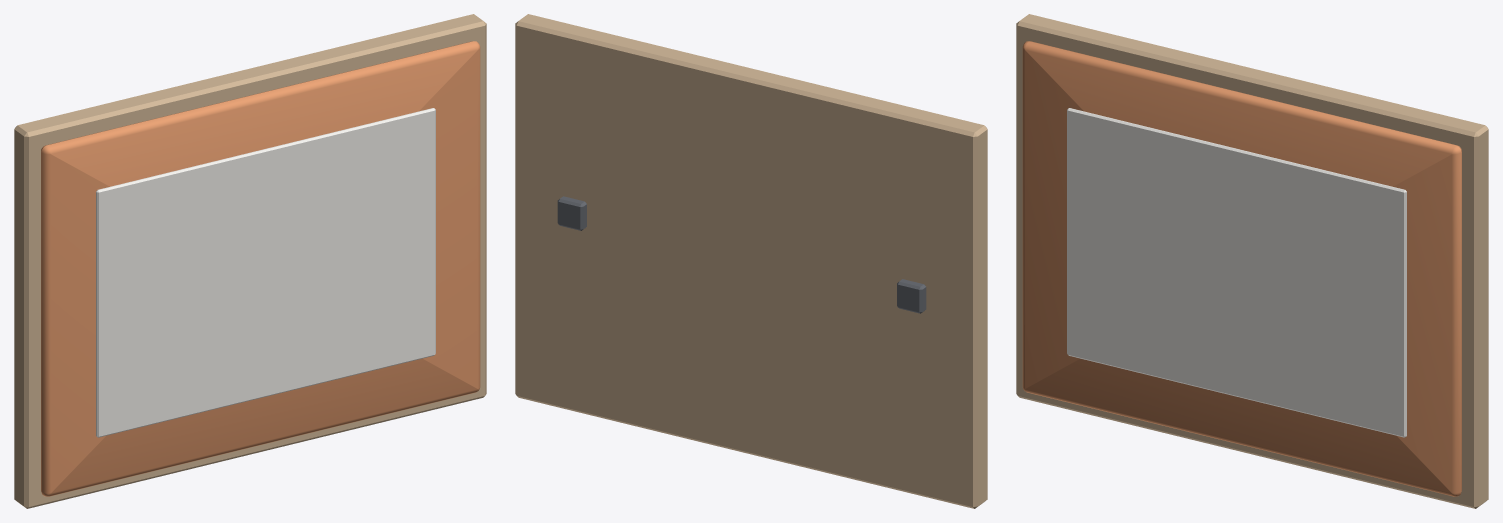
File: wall-art-panel.glb
3 renders of one model, left to right at view 1: azimuth 30°, elevation 25°; view 2: azimuth 150°, elevation 25°; view 3: azimuth 330°, elevation 25°, orthographic.
Visible parts, largest first — view 1: wall-art-panel; view 2: wall-art-panel; view 3: wall-art-panel.
Part boxes in pixels (x1,y1,x2,y2): wall-art-panel: (14,14,486,508); wall-art-panel: (515,14,987,508); wall-art-panel: (1016,14,1488,508).
Size of the model in its own units: 0.9 by 0.7 by 0.098.
